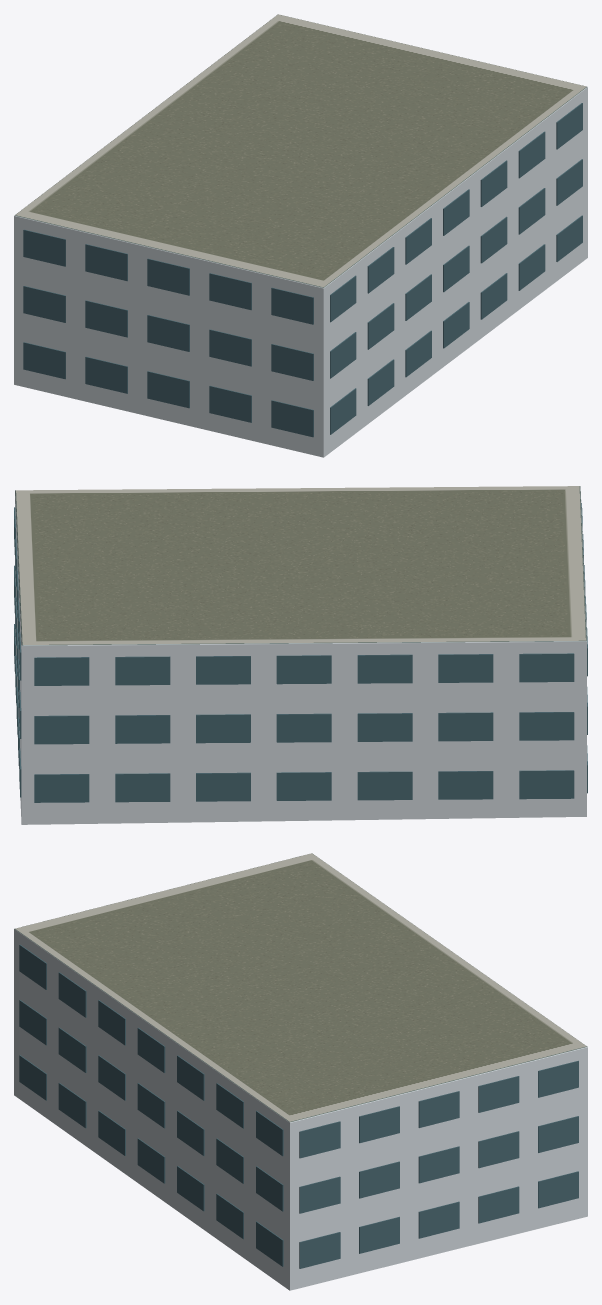
File: intact.glb
3 renders of one model, top to bottom at view 1: azimuth 30°, elevation 25°; view 2: azimuth 150°, elevation 25°; view 3: azimuth 270°, elevation 25°, orthographic. The views are drawn at different scales.
Parts seen in each view (by area): view 1: SM_yeongseon_Intact_00, SM_yeongseon_Intact_01; view 2: SM_yeongseon_Intact_00, SM_yeongseon_Intact_01; view 3: SM_yeongseon_Intact_00, SM_yeongseon_Intact_01.
Boxes of the visible parts, x1,y1,x2,y2 form: SM_yeongseon_Intact_00: (14, 14, 587, 457); SM_yeongseon_Intact_01: (23, 103, 582, 437); SM_yeongseon_Intact_00: (15, 486, 586, 824); SM_yeongseon_Intact_01: (14, 503, 587, 802); SM_yeongseon_Intact_00: (14, 853, 587, 1290); SM_yeongseon_Intact_01: (19, 944, 578, 1268).
Bounding box in the file's own units: 2.2 × 0.6465 × 1.98.
Materials: 4 (1 with a texture image).
